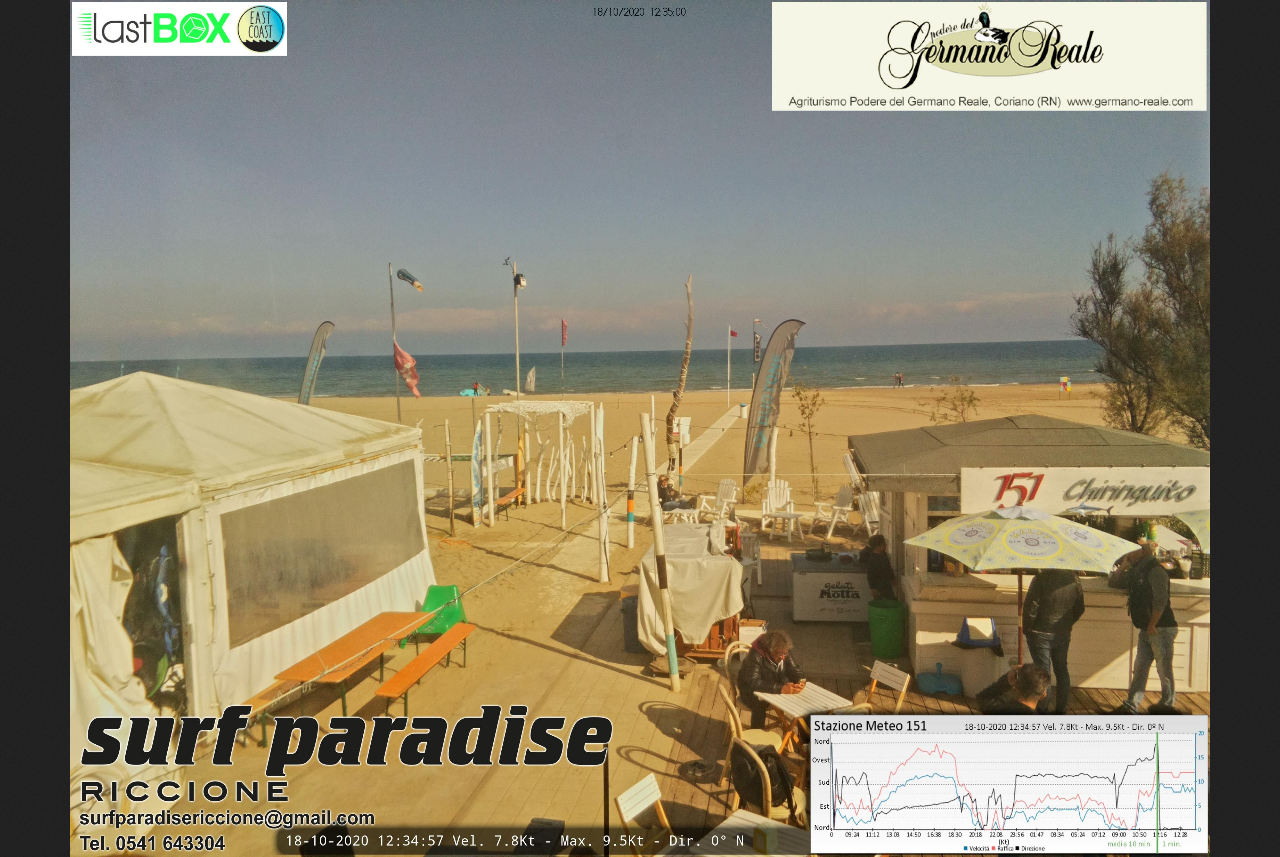maybe: (390, 340, 423, 401)
yes: (558, 318, 566, 347)
